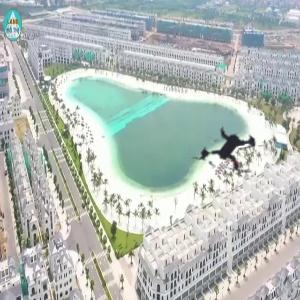drone: (174, 97, 286, 209)
